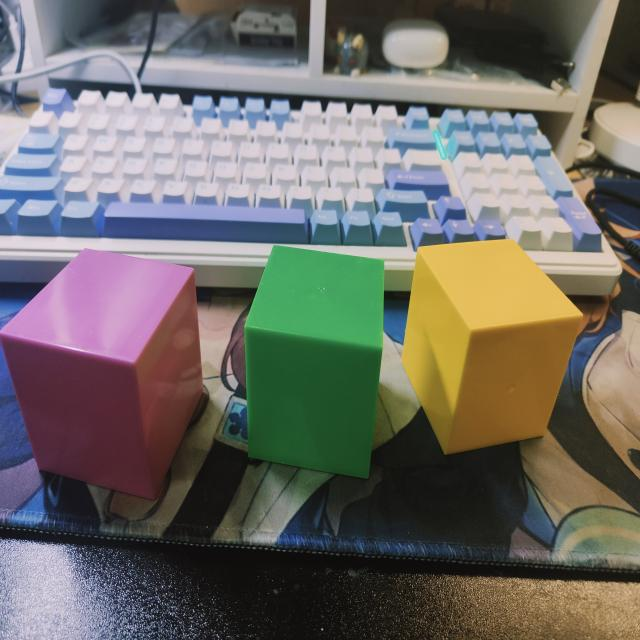green: (241, 246, 387, 481)
pink: (0, 246, 208, 501)
yellow: (402, 239, 586, 457)
